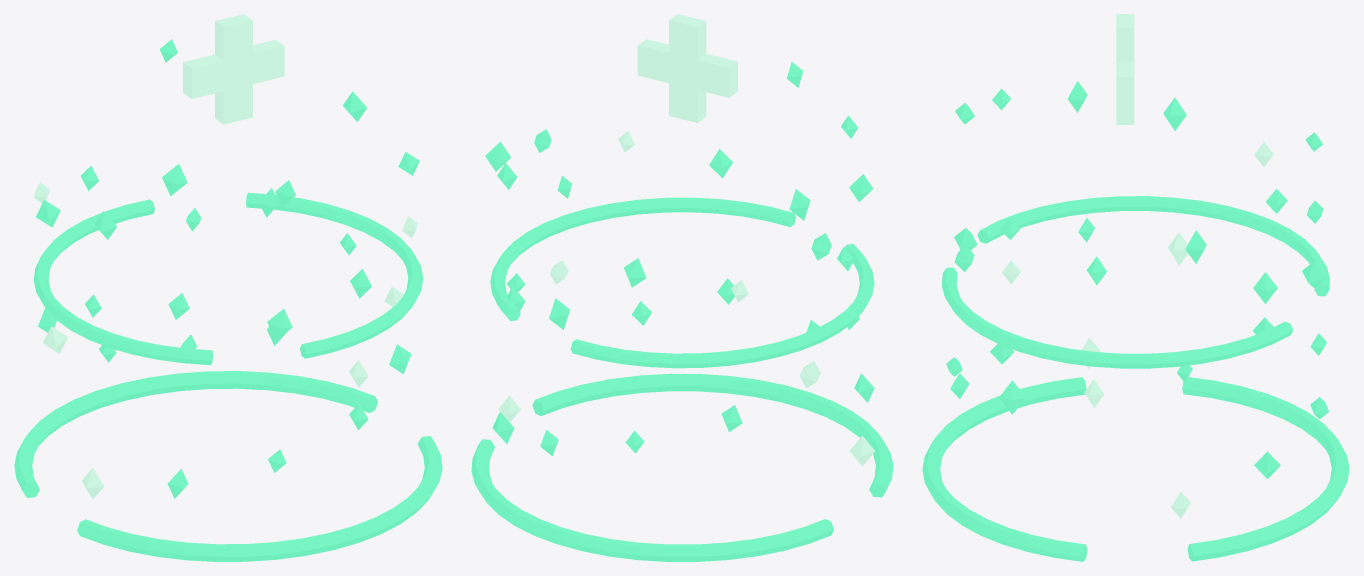
File: fx-heal.glb
The picture shows the model from 3 angles, left to right: view 1: azimuth 30°, elevation 25°; view 2: azimuth 150°, elevation 25°; view 3: azimuth 270°, elevation 25°; orthographic projection.
Parts seen in each view (by area): view 1: heal; view 2: heal; view 3: heal.
Part boxes in pixels (<box>): heal: <box>14,14,442,561</box>; heal: <box>471,14,893,561</box>; heal: <box>922,14,1349,561</box>.
Size of the model in its own units: 1.16 by 1.41 by 1.2.
